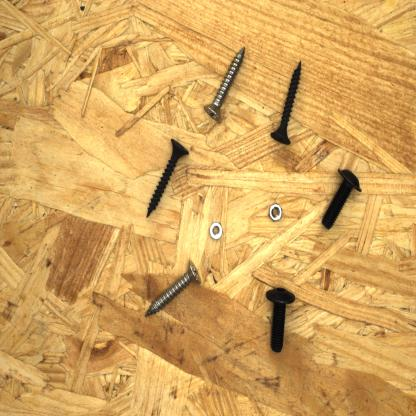screw: (143, 134, 193, 221), (142, 254, 204, 320), (201, 44, 249, 124), (268, 59, 304, 147), (319, 164, 364, 233), (259, 284, 299, 356)
